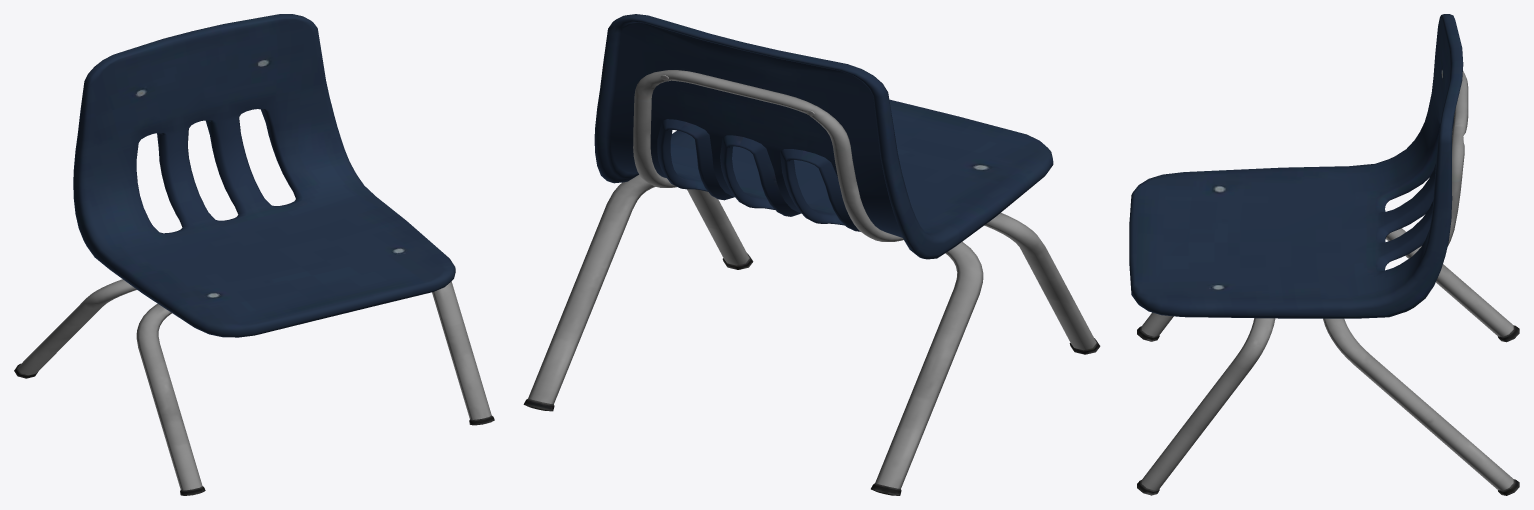
Rendered from ph-schoolchair-01.glb.
The picture shows the model from 3 angles, left to right: view 1: azimuth 30°, elevation 25°; view 2: azimuth 150°, elevation 25°; view 3: azimuth 270°, elevation 25°; orthographic projection. The views are drawn at different scales.
Parts seen in each view (by area): view 1: SchoolChair_01; view 2: SchoolChair_01; view 3: SchoolChair_01.
Part boxes in pixels (x1,y1,x2,y2): SchoolChair_01: [14, 14, 494, 495]; SchoolChair_01: [523, 14, 1100, 495]; SchoolChair_01: [1129, 14, 1519, 495].
Bounding box in the file's own units: 1 × 1 × 1.
Materials: 1 (1 with a texture image).
